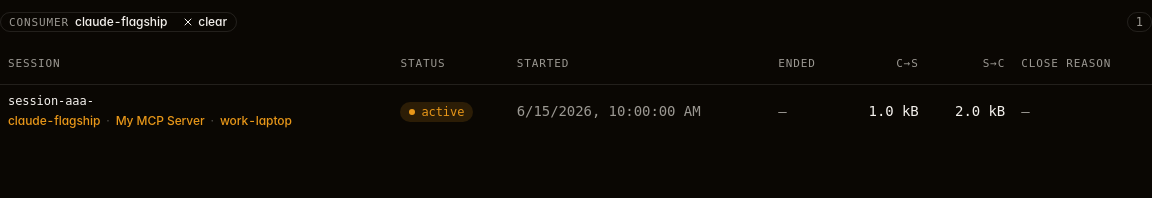
Test: SessionsPage — chip clear navigation › clicking clear removes the filter and shows all sessions
Expected: the element with test id "active-filter-chip" is shown, [0, 12, 237, 32]
Click the button with aria-label "Clear filter" at x=205, y=22, box [177, 14, 232, 30]
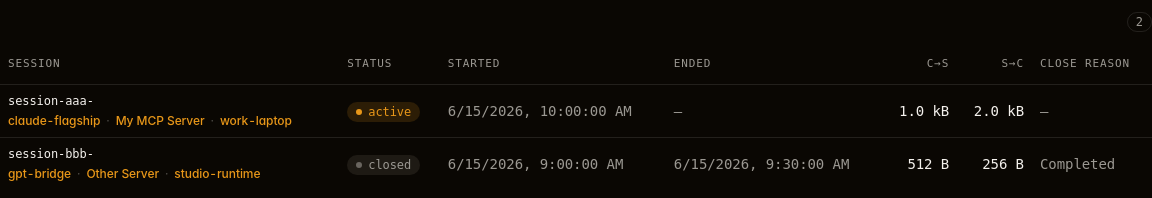
Expected: the link "claude-flagship" is shown, [8, 112, 100, 128]
Result: the element with test id "active-filter-chip" is gone
Result: the link "gpt-bridge" is shown at [8, 166, 71, 182]
